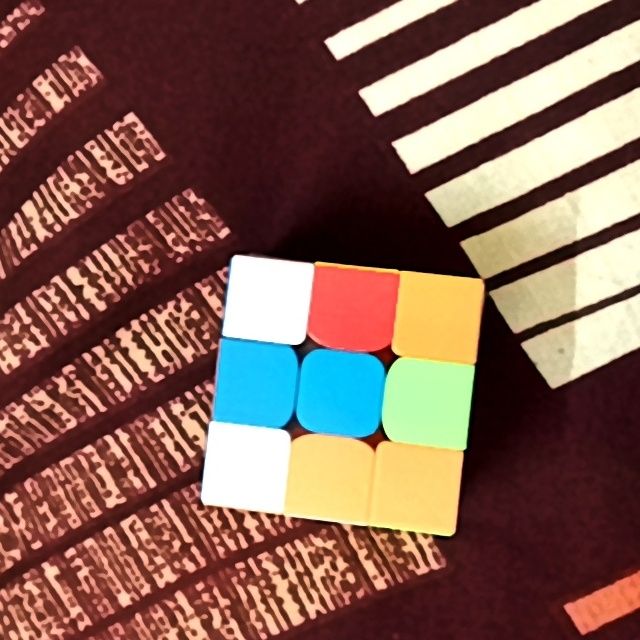tile: (296, 445, 364, 513), (386, 453, 453, 522), (396, 371, 461, 436), (214, 435, 276, 503), (310, 363, 373, 429), (408, 287, 470, 352), (326, 273, 386, 340), (224, 355, 286, 417), (234, 271, 296, 330)
